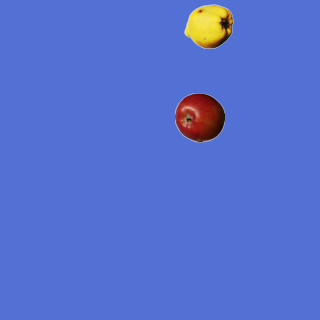Apple Braeburn: (174, 92, 224, 142)
Quince: (183, 1, 233, 51)
